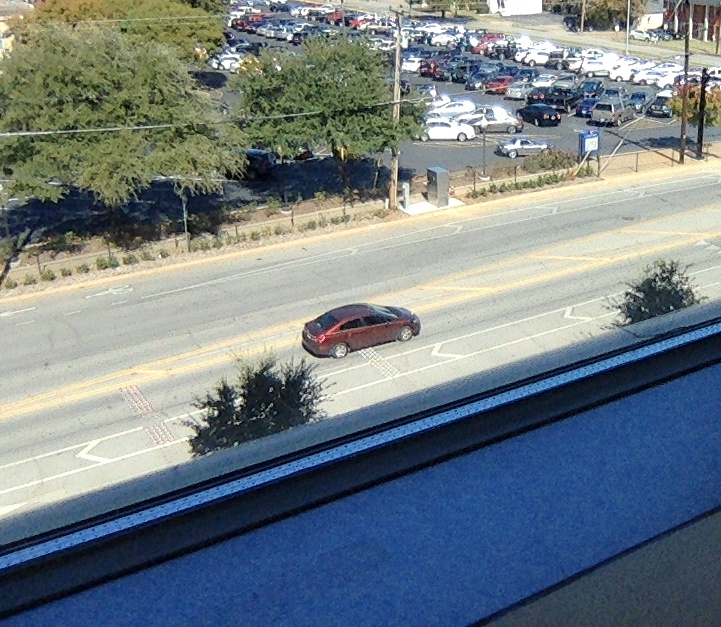car: (300, 300, 421, 361)
